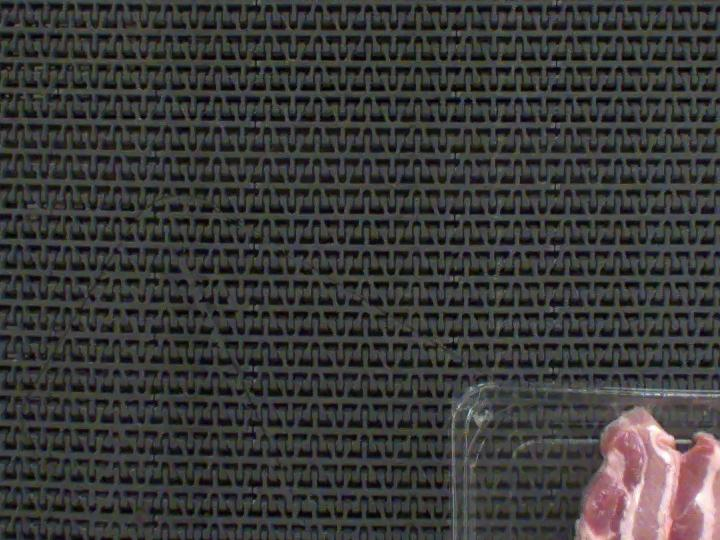packaging-error: (612, 394, 662, 421)
